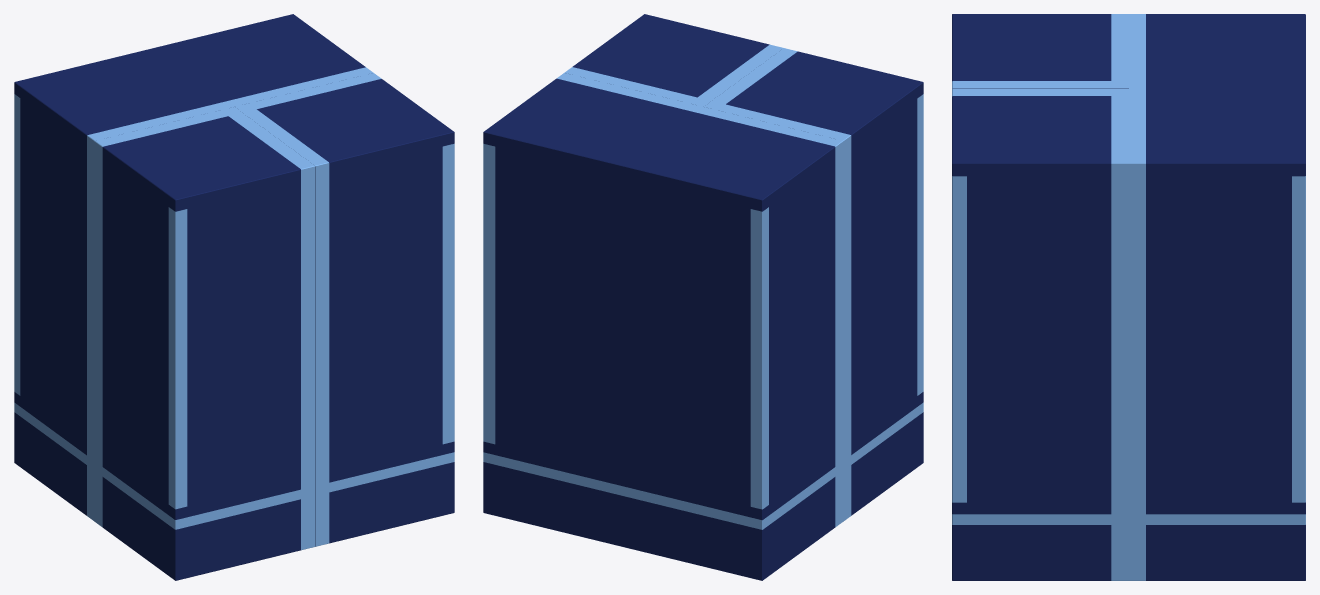
The model's file is Breakable_Box_Utuh.fbx.
3 views of the same model, side by side, from view 1: azimuth 30°, elevation 25°; view 2: azimuth 150°, elevation 25°; view 3: azimuth 270°, elevation 25° (orthographic). The views are drawn at different scales.
Parts seen in each view (by area): view 1: Box 3, Box 2, Box 1; view 2: Box 1, Box 3, Box 2; view 3: Box 1, Box 2, Box 3.
Part boxes in pixels (x1,y1,x2,y2): Box 3: (94,107,314,580); Box 2: (235,73,454,546); Box 1: (14,14,373,521); Box 1: (483,73,843,580); Box 3: (704,48,923,521); Box 2: (564,14,783,106); Box 1: (1129,14,1305,580); Box 2: (952,88,1128,580); Box 3: (952,14,1128,88).
Bounding box in the file's own units: 100 × 130 × 100.
